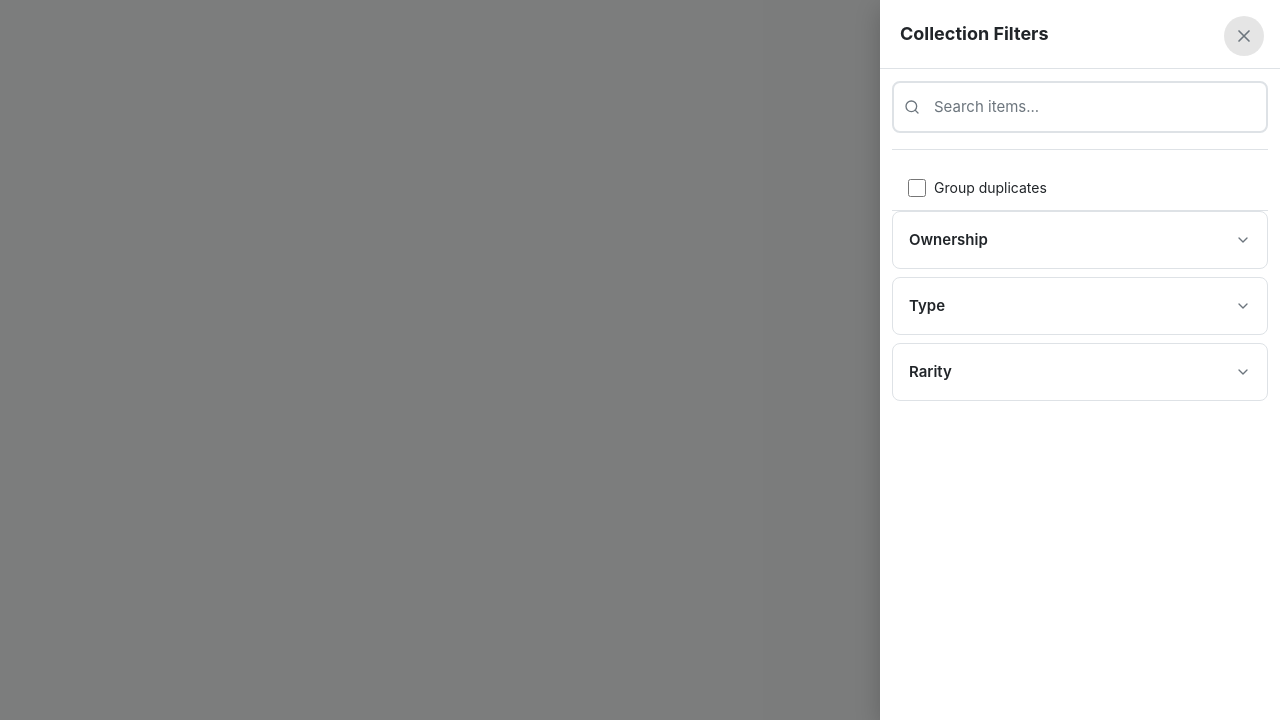
Test: CollectionFilterDrawer › shows ownership filter for authenticated users with ownership data
Expand ownership filter
Click the text "Ownership" at (949, 240), box x1=909 y1=228 x2=988 y2=252
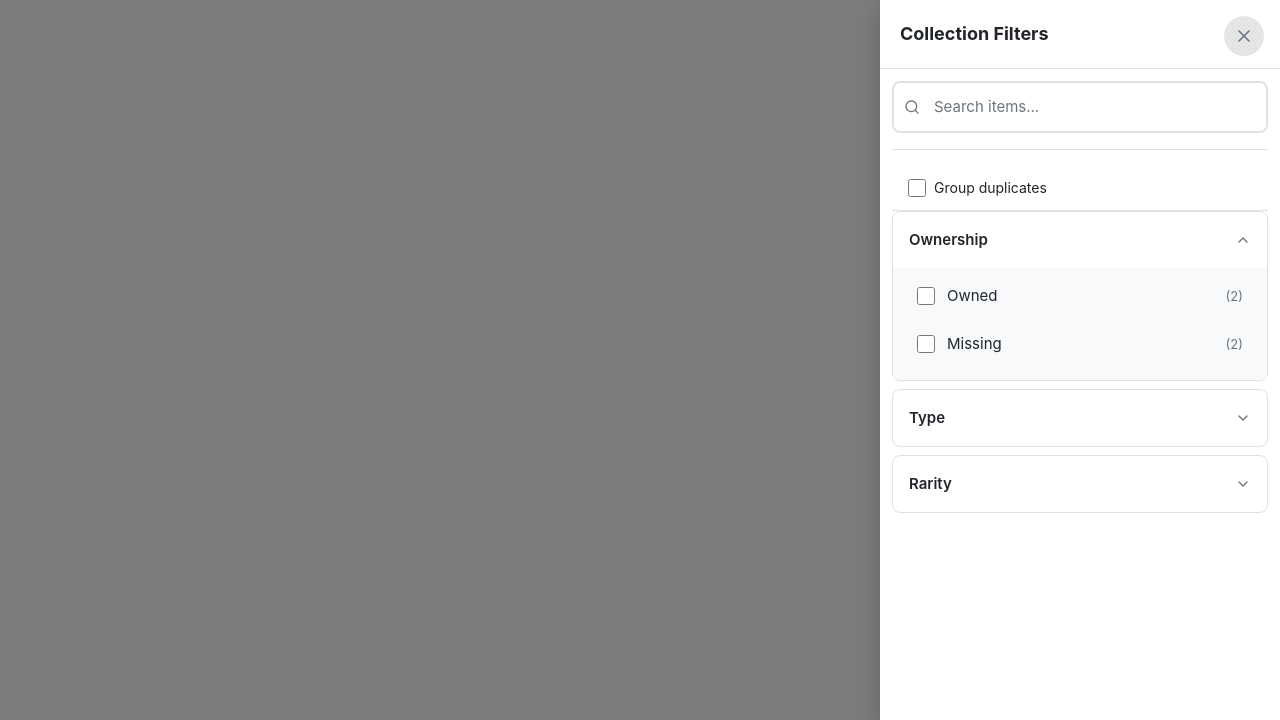
Check: the text "Owned" is shown, box x1=917 y1=286 x2=1243 y2=305
Check: the text "Missing" is shown, box x1=917 y1=334 x2=1243 y2=353
